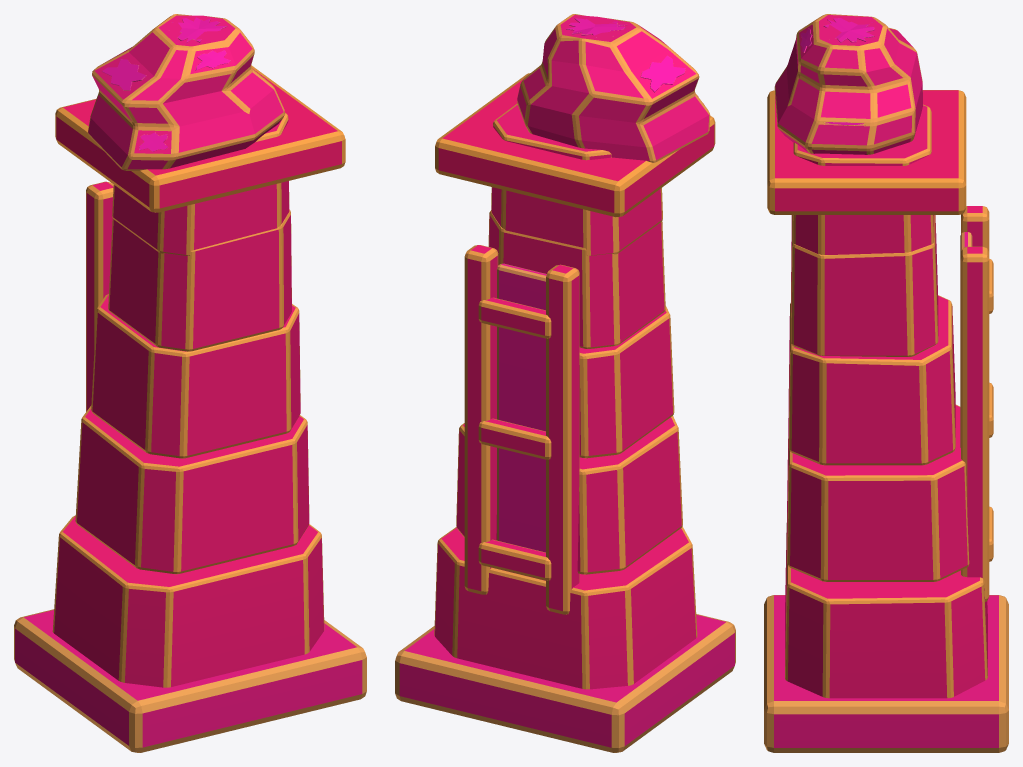
File: SM_GardenButtress.fbx
3 views of the same model, side by side, from view 1: azimuth 30°, elevation 25°; view 2: azimuth 150°, elevation 25°; view 3: azimuth 270°, elevation 25° (orthographic). The views are drawn at different scales.
Visible parts, largest first — view 1: SM_GardenButtress; view 2: SM_GardenButtress; view 3: SM_GardenButtress.
Part boxes in pixels (x1=…): SM_GardenButtress: x1=14, y1=14, x2=366, y2=752; SM_GardenButtress: x1=395, y1=14, x2=735, y2=752; SM_GardenButtress: x1=764, y1=14, x2=1008, y2=752.
Size of what is drawn, in the model's own units: 224 by 247 by 672.
